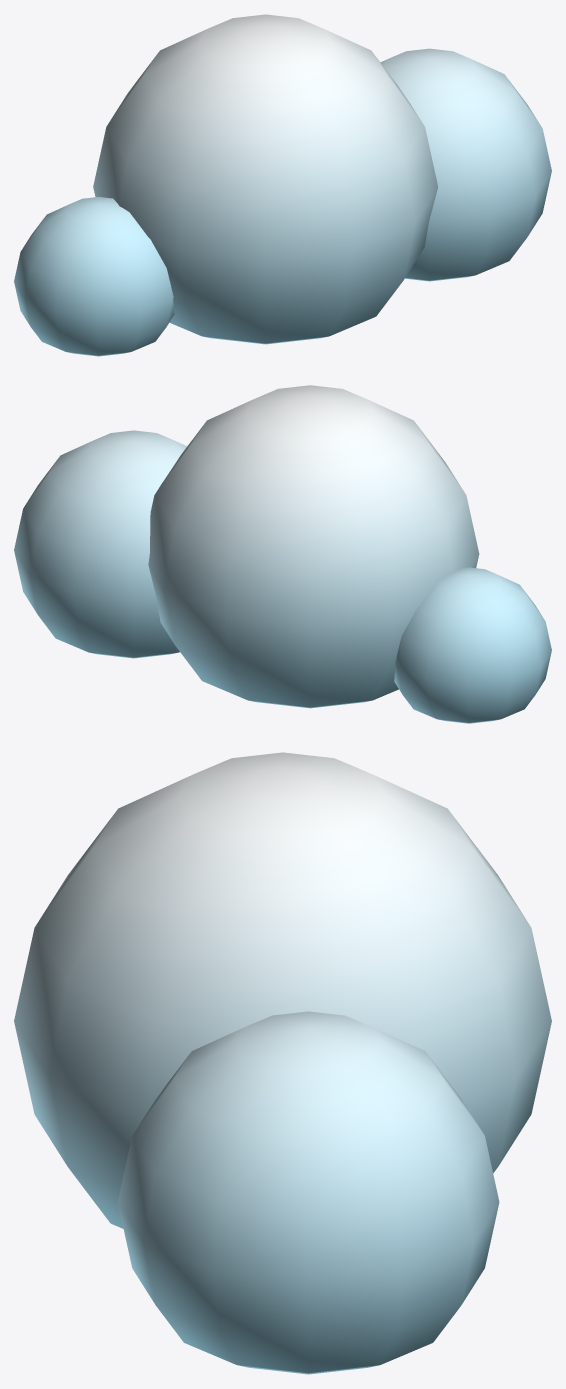
File: Cloud_01.fbx
3 views of the same model, one above another, from view 1: azimuth 30°, elevation 25°; view 2: azimuth 150°, elevation 25°; view 3: azimuth 270°, elevation 25° (orthographic). The views are drawn at different scales.
Visible parts, largest first — view 1: Cloud_01; view 2: Cloud_01; view 3: Cloud_01.
Boxes of the visible parts, <box> form: Cloud_01: <box>14,14,551,356</box>; Cloud_01: <box>14,385,551,723</box>; Cloud_01: <box>14,752,551,1374</box>.
Bounding box in the file's own units: 345 × 171 × 200.
